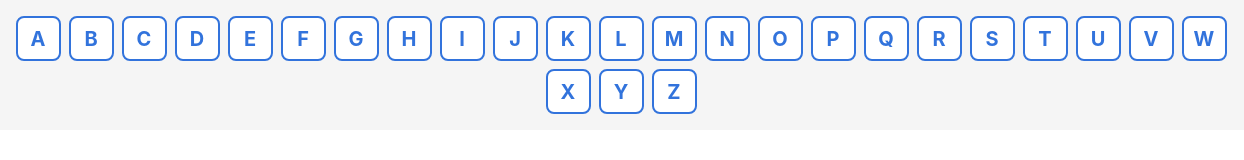
Test case: AlphabetDisplay › Integration › should support typical game flow: render → attachClickHandler → click → disableLetter
Simulate player clicking 'E'
Step 1. Click the button with class "letter-button" showing "E" → click(250, 38), box [228, 16, 272, 61]
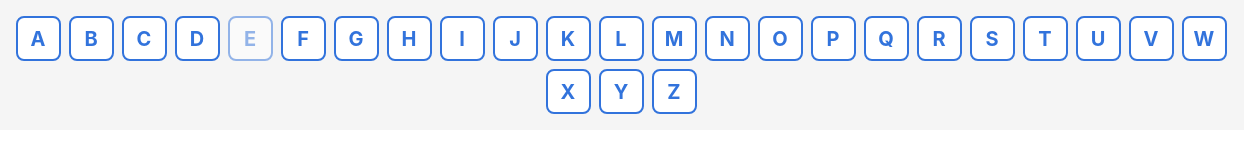
Expected: the button with class "letter-button" showing "E" is disabled, [228, 16, 272, 61]
